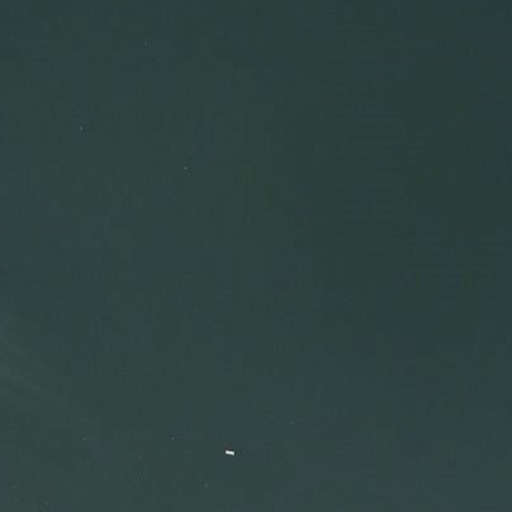ship: (223, 448, 236, 457)
